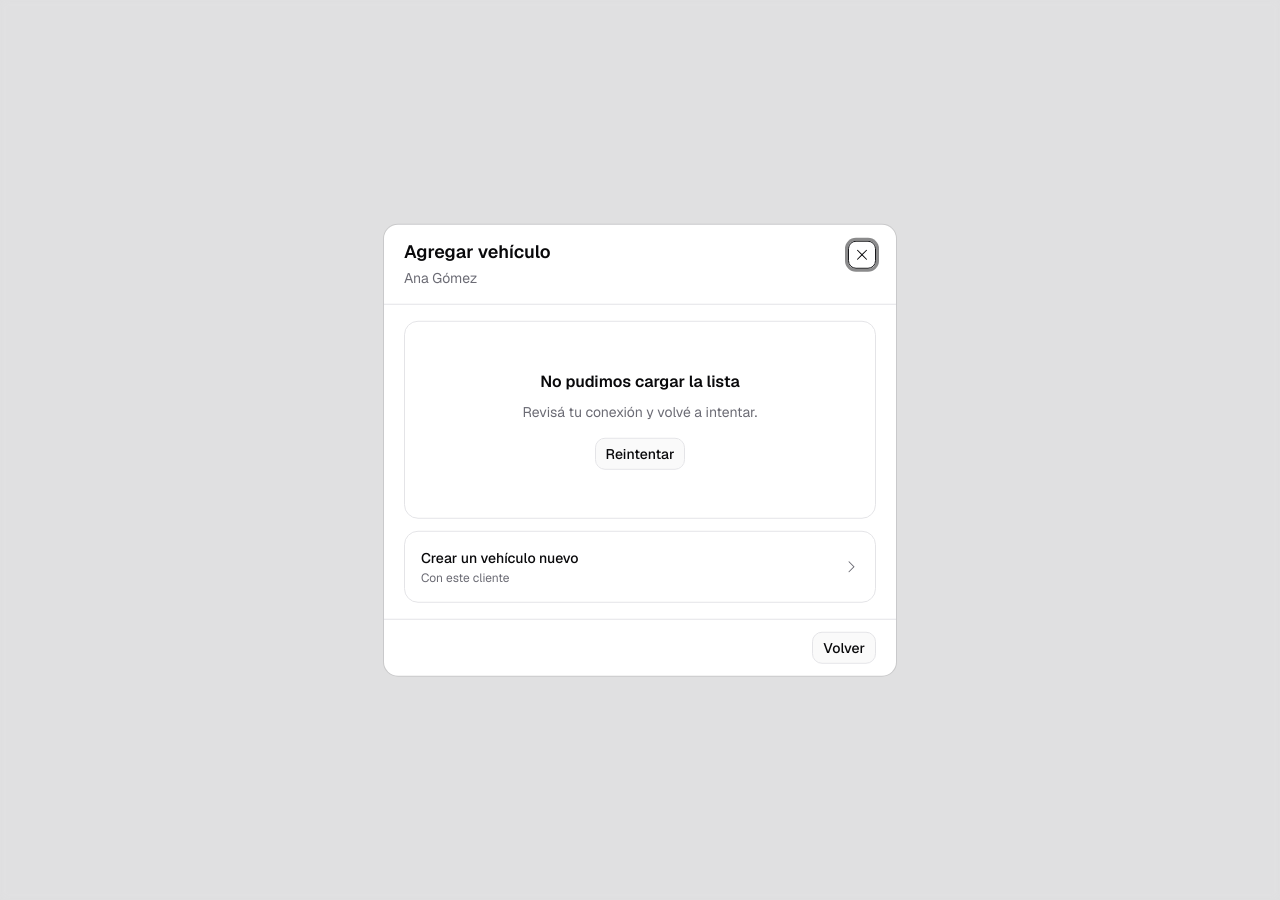
Test: ClientModal: add vehicle › shows an error with Reintentar when the vehicles can't load
The width and height of the screenshot is (1280, 900).
What coordinates should you click on to do the following:
click the button "Reintentar"
I would click on:
 (640, 453)
Its box is [595,437,685,469].
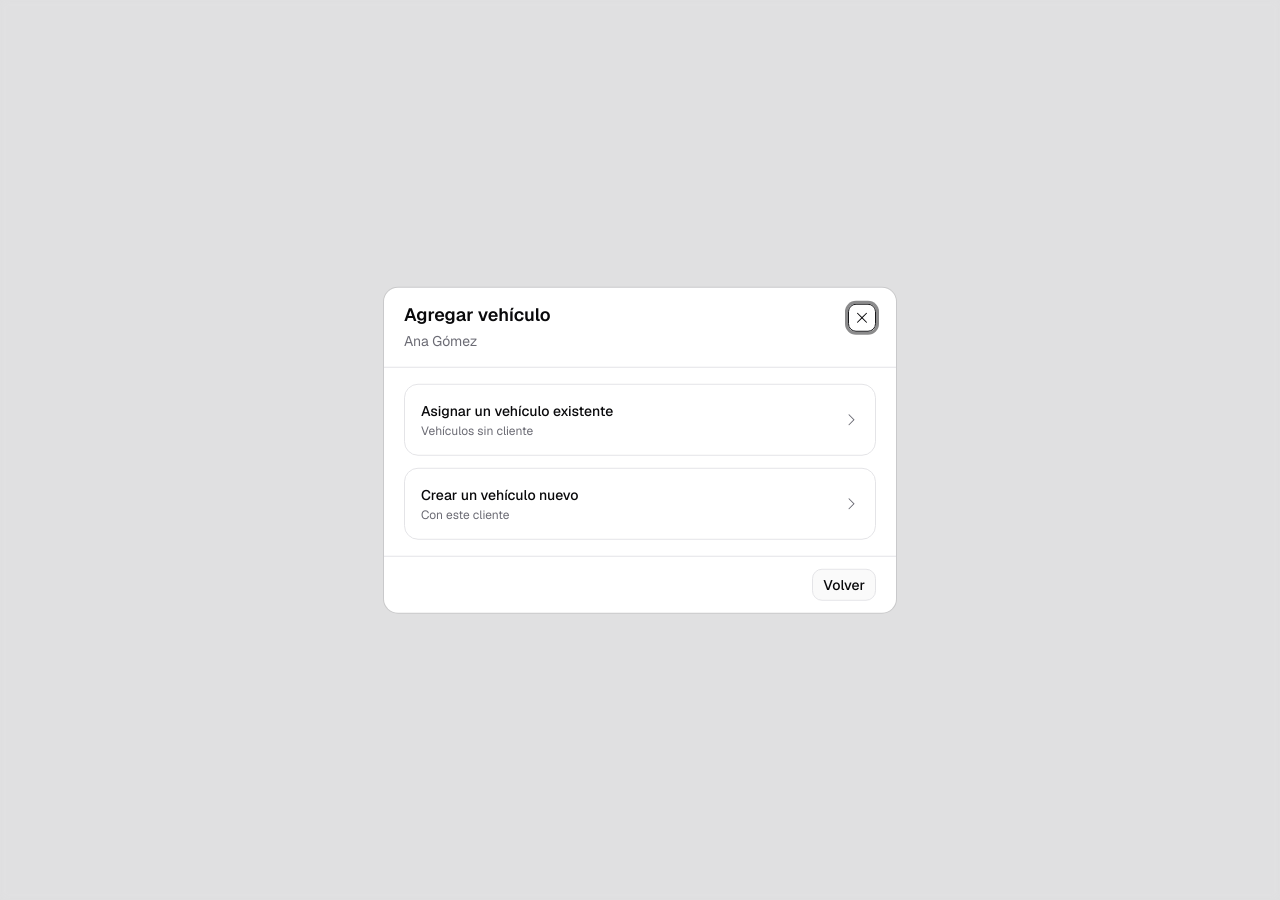
Now the button "Asignar un vehículo existente Vehículos sin cliente" is enabled, box [404,383,876,455]
